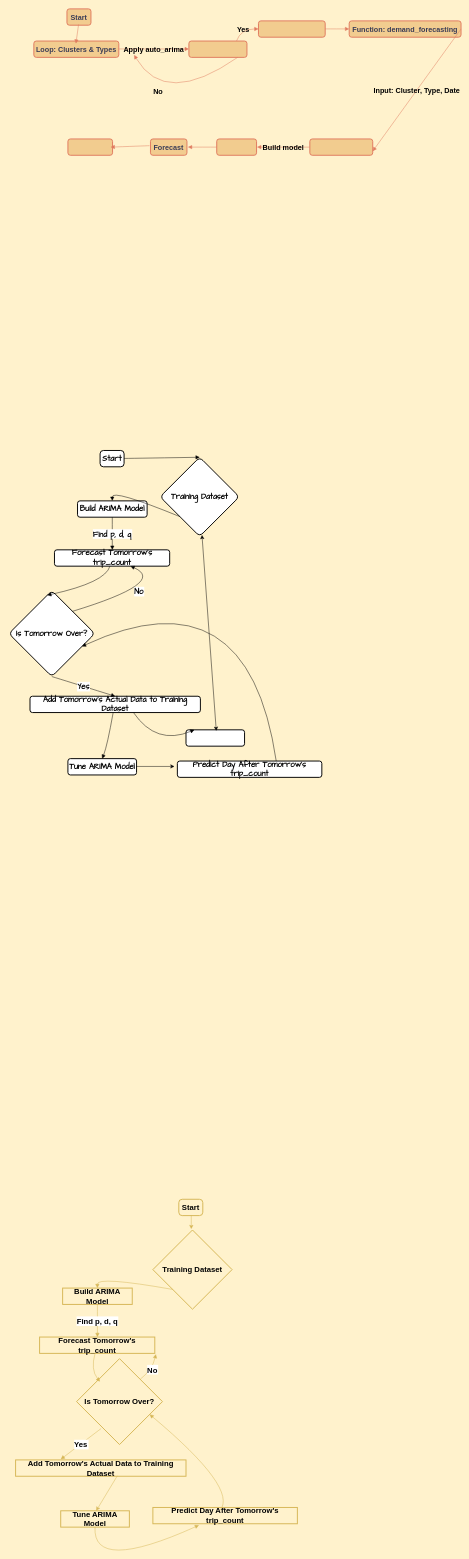
Image size: 469x1559. Some labels were removed from this diagram. The centre of each missing label's shape, as x and y in pixels:
"End" belongs at point (90, 147).
"Fit model" belongs at point (236, 147).
"Optimal order?" belongs at point (217, 49).
"Repeat Process" belongs at point (215, 737).
"Retrieve params" belongs at point (341, 147).
"Store parameters" belongs at point (291, 28).
